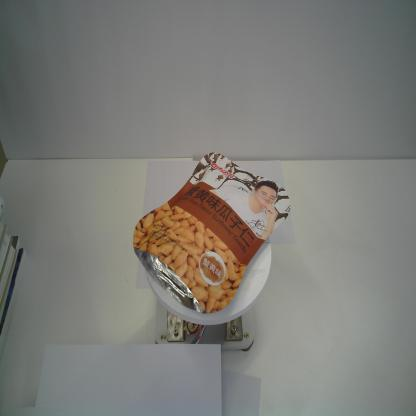Dried Fruit: (132, 152, 291, 314)
